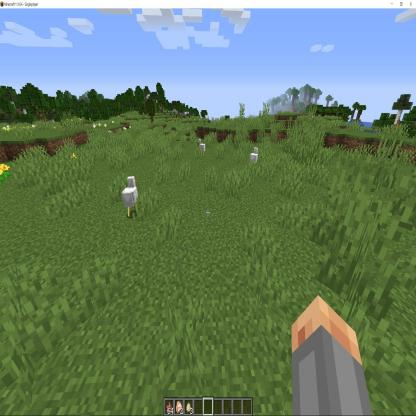minecraft-pigs: (123, 173, 139, 221), (247, 146, 260, 174), (197, 138, 208, 160)
